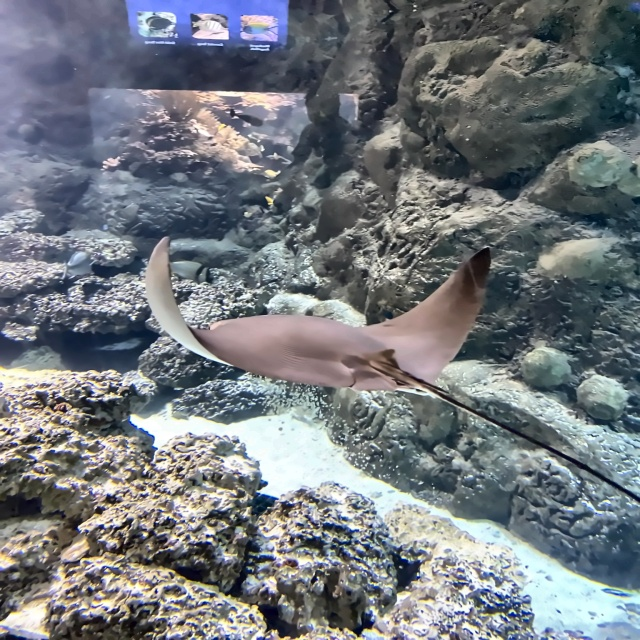stingray: (145, 237, 492, 392)
